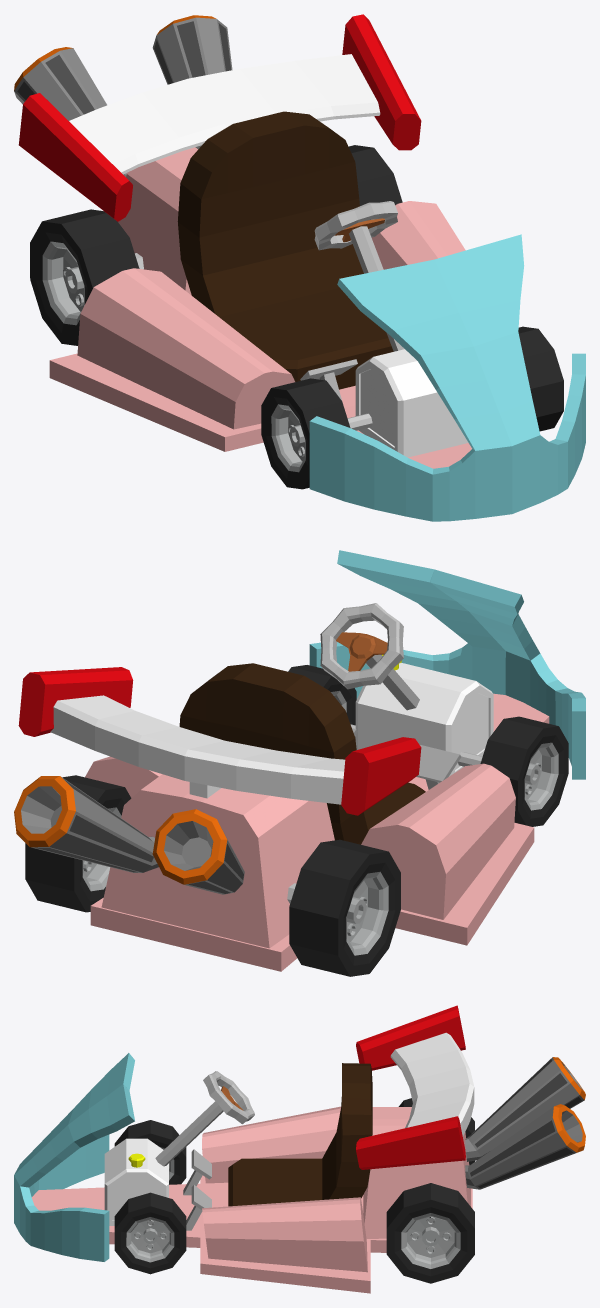
Rendered from Kart2.glb.
3 views of the same model, one above another, from view 1: azimuth 30°, elevation 25°; view 2: azimuth 150°, elevation 25°; view 3: azimuth 270°, elevation 25° (orthographic). The views are drawn at different scales.
Parts seen in each view (by area): view 1: KartPlataform3, Hood2, Chair3, WingsKart2, Wheel_BR, Catalysts3, Wheel_FR, SteeringWheel3, Wheel_FL, Wheel_BL, Pedals1; view 2: KartPlataform3, WingsKart2, Hood2, Chair3, Catalysts3, Wheel_BR, Wheel_FR, SteeringWheel3, Wheel_BL, Pedals1, Wheel_FL; view 3: KartPlataform3, WingsKart2, Hood2, Catalysts3, Chair3, Wheel_BL, Wheel_FL, SteeringWheel3, Wheel_FR, Pedals1.
Part boxes in pixels (<box>): KartPlataform3: <box>49,147,471,468</box>; Hood2: <box>309,234,585,521</box>; Chair3: <box>177,111,393,389</box>; WingsKart2: <box>18,14,421,221</box>; Wheel_BR: <box>30,209,139,345</box>; Catalysts3: <box>14,15,232,176</box>; Wheel_FR: <box>261,378,350,489</box>; SteeringWheel3: <box>314,201,404,351</box>; Wheel_FL: <box>518,326,563,431</box>; Wheel_BL: <box>349,145,402,219</box>; Pedals1: <box>300,359,357,400</box>; KartPlataform3: <box>85,654,549,971</box>; WingsKart2: <box>18,667,421,815</box>; Hood2: <box>309,550,585,779</box>; Chair3: <box>179,663,425,844</box>; Catalysts3: <box>14,776,244,894</box>; Wheel_BR: <box>289,839,400,976</box>; Wheel_FR: <box>480,716,568,826</box>; SteeringWheel3: <box>320,603,419,710</box>; Wheel_BL: <box>25,775,131,912</box>; Pedals1: <box>352,728,461,789</box>; Wheel_FL: <box>288,665,356,725</box>; KartPlataform3: <box>31,1106,472,1293</box>; WingsKart2: <box>356,1005,474,1169</box>; Hood2: <box>14,1053,134,1261</box>; Catalysts3: <box>465,1057,585,1189</box>; Chair3: <box>228,1063,372,1206</box>; Wheel_BL: <box>386,1183,474,1283</box>; Wheel_FL: <box>114,1192,186,1274</box>; SteeringWheel3: <box>155,1071,254,1166</box>; Wheel_FR: <box>114,1120,186,1184</box>; Pedals1: <box>183,1149,211,1230</box>.
Size of the model in its own units: 10.53 by 5.81 by 17.77.
